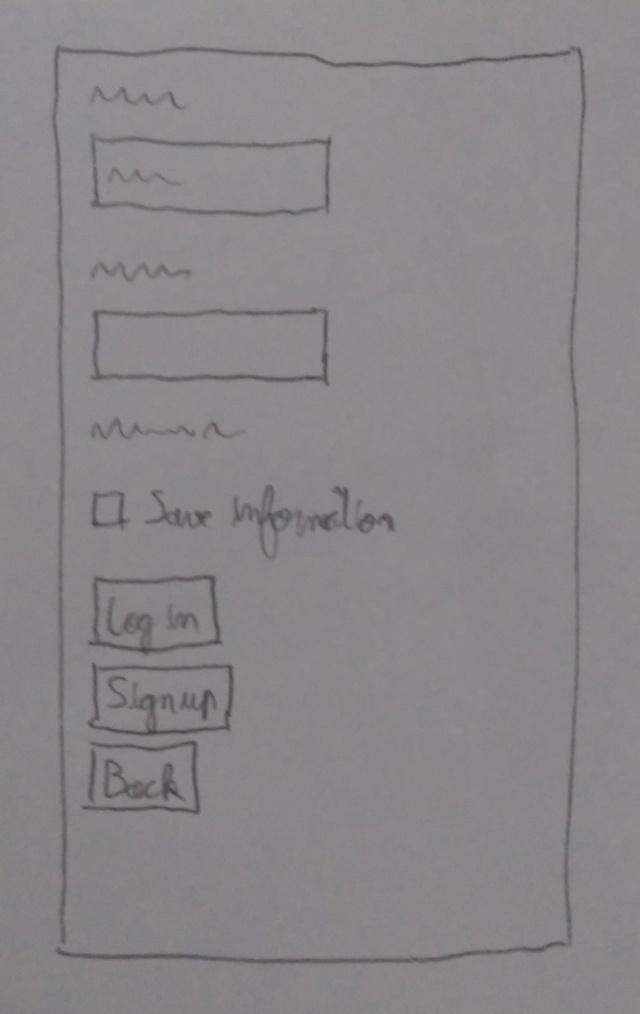Button: (89, 662, 233, 735), (91, 576, 221, 655), (88, 738, 202, 813)
CheckBox: (89, 485, 398, 562)
Label: (90, 416, 247, 442), (88, 85, 188, 109), (89, 262, 191, 283)
Screen: (57, 47, 585, 965)
TextBox: (90, 132, 332, 216), (93, 304, 329, 387)
